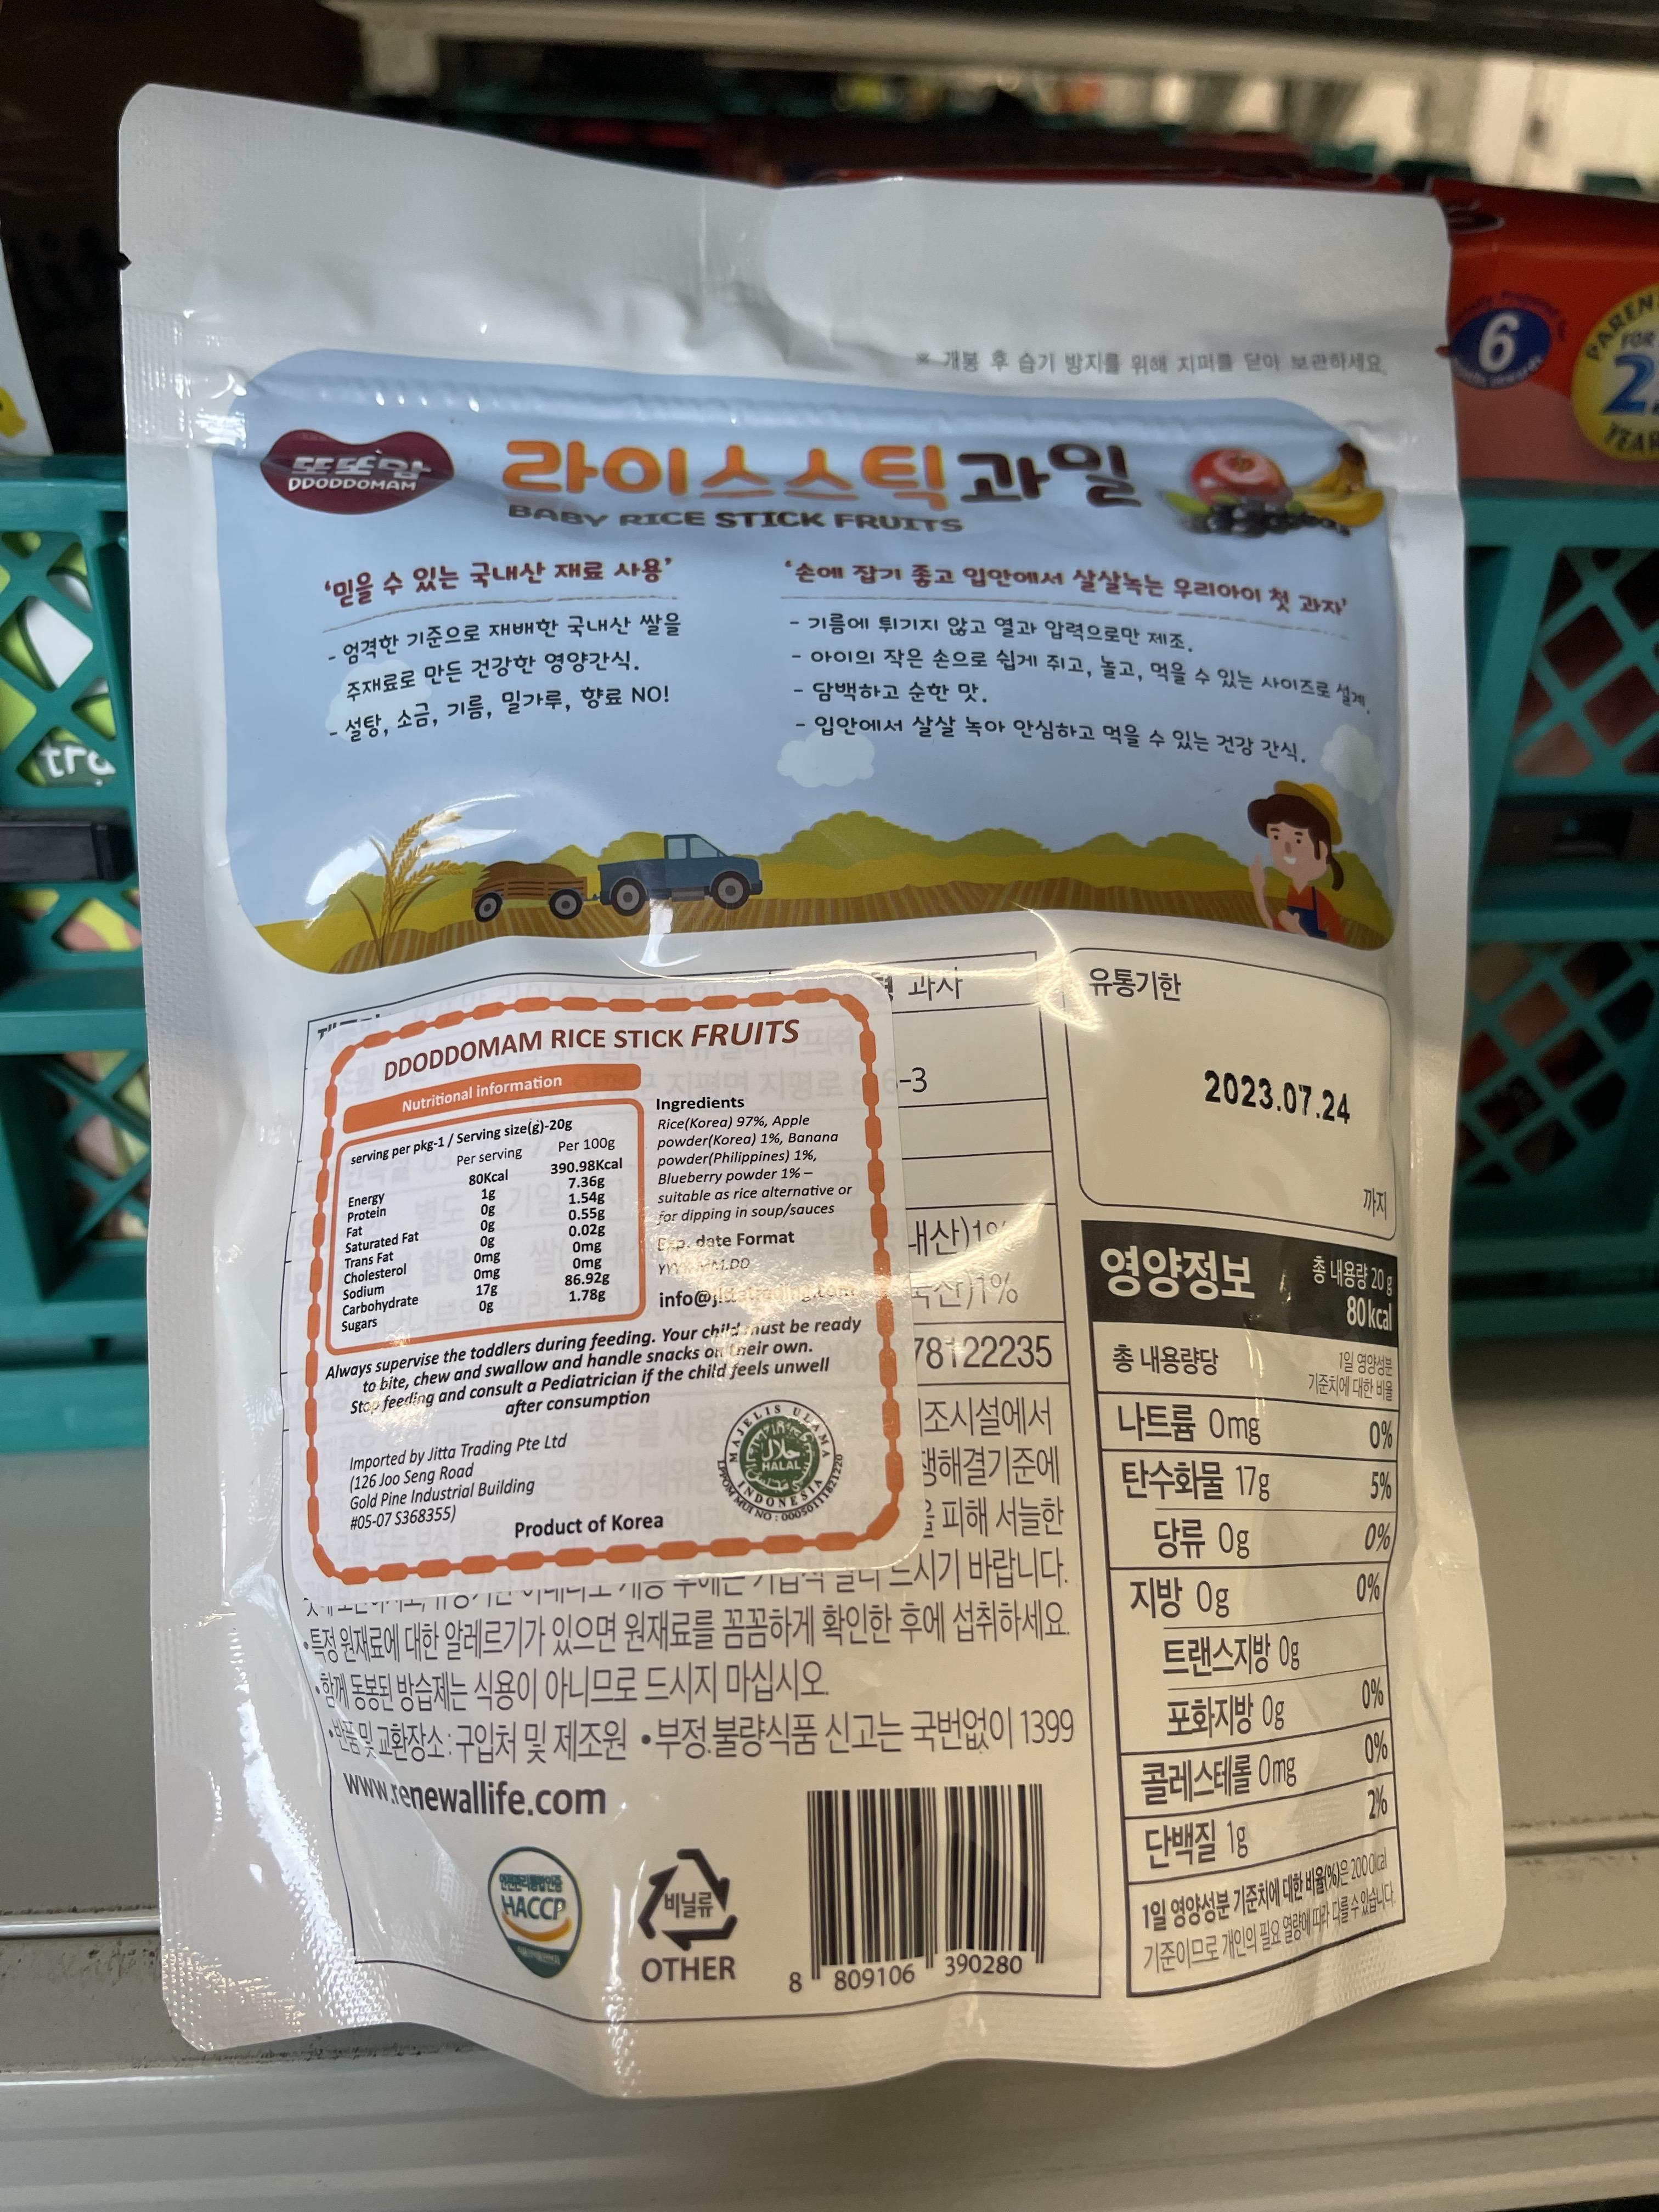object_name: (110, 54, 1514, 2099)
